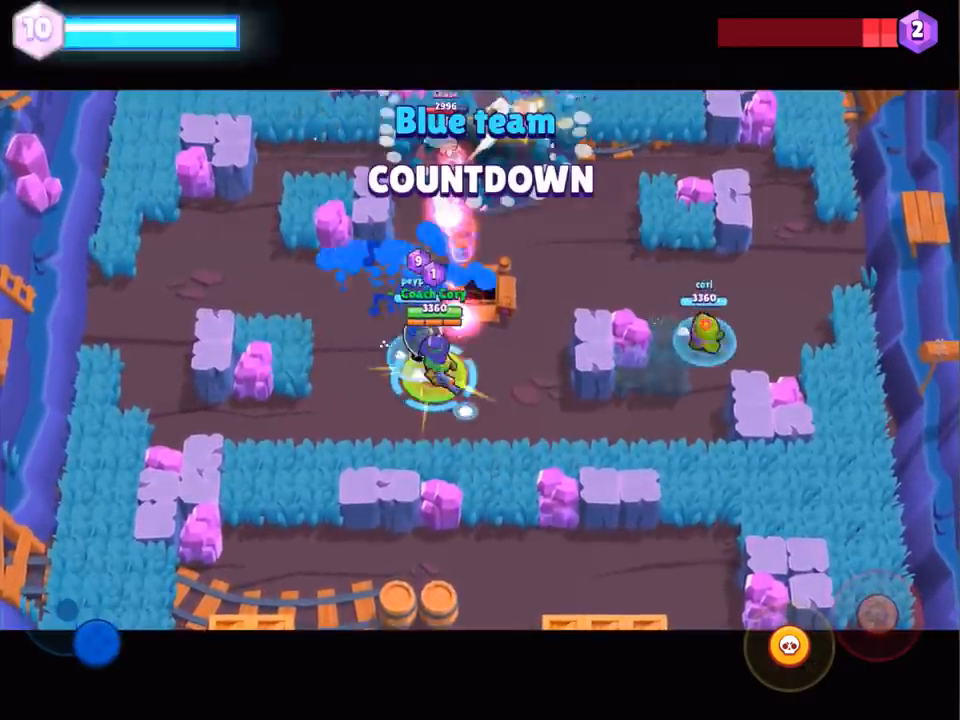move_stick: (81, 622, 119, 656)
red: (417, 98, 468, 180)
